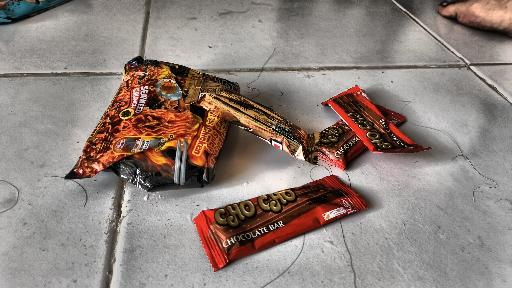chocho: (193, 178, 374, 274), (320, 85, 432, 170)
mie sedap: (63, 49, 241, 197)
top: (184, 71, 324, 168)
